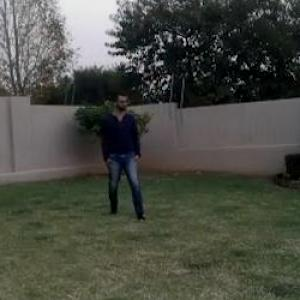follow: (102, 84, 142, 220)
